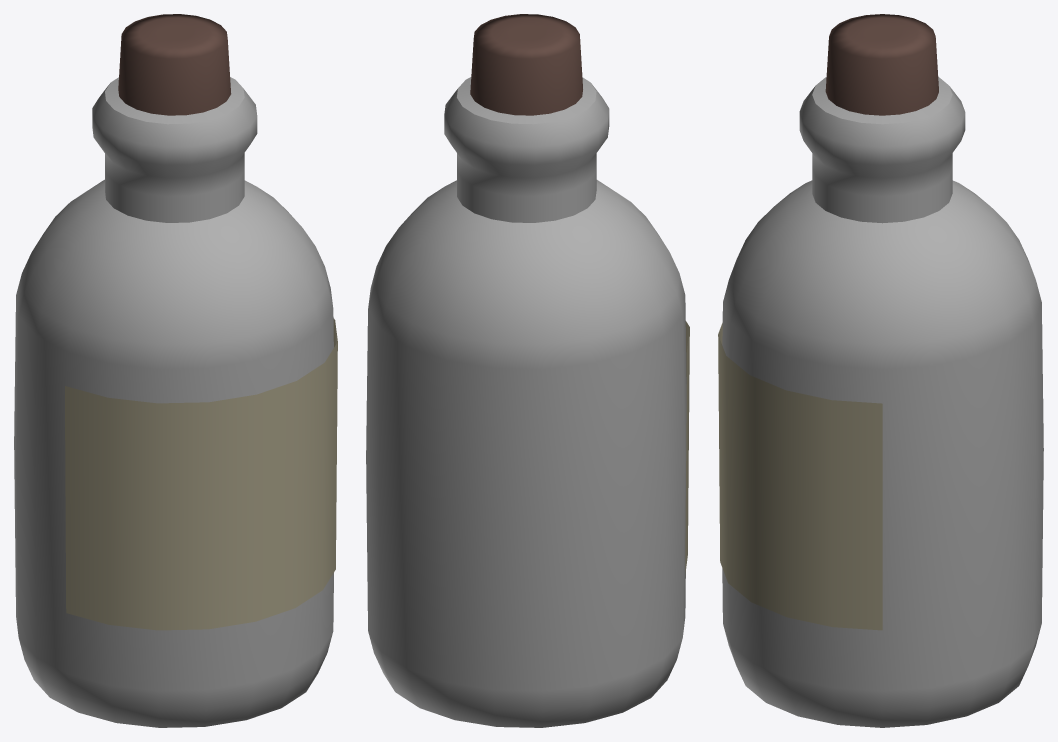
File: Bloodvial.fbx
3 renders of one model, left to right at view 1: azimuth 30°, elevation 25°; view 2: azimuth 150°, elevation 25°; view 3: azimuth 270°, elevation 25°, orthographic.
Visible parts, largest first — view 1: pSphere1, pasted__pSphere1, polySurface1, polySurface2; view 2: pSphere1, polySurface1, polySurface2, pasted__pSphere1; view 3: pSphere1, pasted__pSphere1, polySurface1, polySurface2.
Boxes of the visible parts, bbox=[...] form: pSphere1: bbox=[14, 179, 333, 727]; pasted__pSphere1: bbox=[65, 318, 337, 630]; polySurface1: bbox=[92, 77, 257, 222]; polySurface2: bbox=[118, 14, 231, 115]; pSphere1: bbox=[366, 180, 686, 727]; polySurface1: bbox=[444, 77, 609, 222]; polySurface2: bbox=[470, 14, 582, 115]; pasted__pSphere1: bbox=[685, 321, 689, 576]; pSphere1: bbox=[722, 180, 1043, 727]; pasted__pSphere1: bbox=[718, 323, 882, 630]; polySurface1: bbox=[799, 77, 965, 223]; polySurface2: bbox=[825, 14, 938, 115].
Size of the model in its own units: 2.02 by 4.42 by 2.02.
